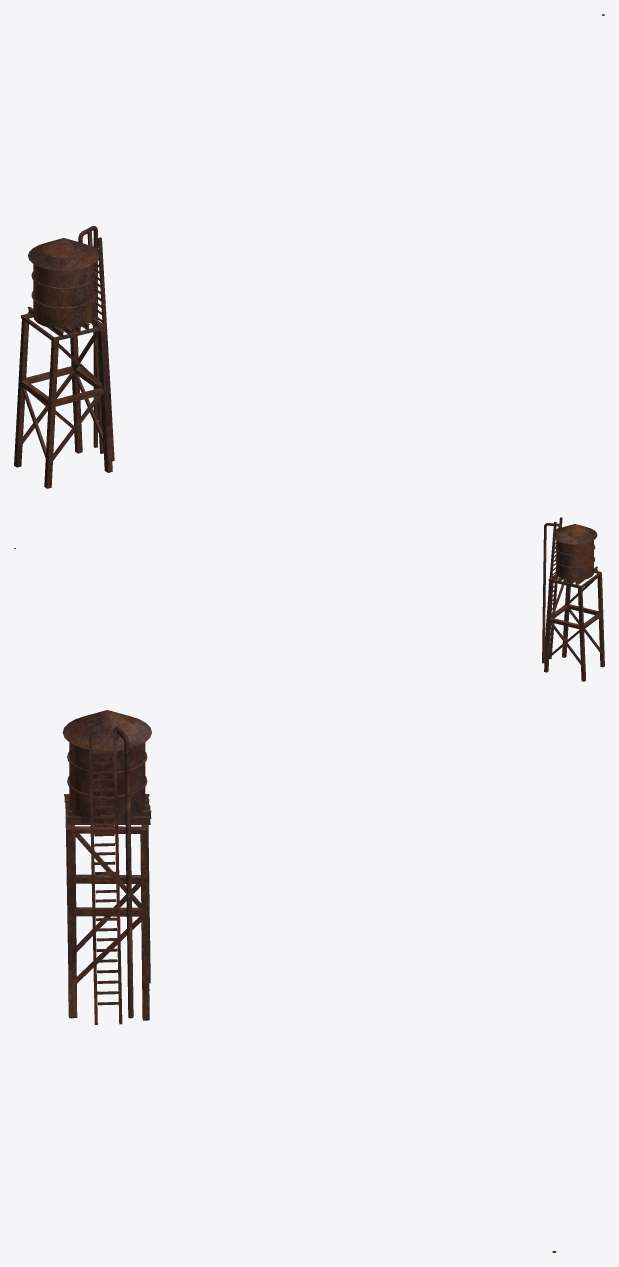
Rendered from rusted_water_tank.glb.
The picture shows the model from 3 angles, top to bottom: view 1: azimuth 30°, elevation 25°; view 2: azimuth 150°, elevation 25°; view 3: azimuth 270°, elevation 25°; orthographic projection. The views are drawn at different scales.
Visible parts, largest first — view 1: Cylinder001, Cone001, Box022, Box020, Box019, Box034, Box023; view 2: Cylinder001, Cone001, Line003, Box019, Box020, Box023, Box022; view 3: Cylinder001, Cone001, Line003, Box022, Box023, Box035, Box034.
Boxes of the visible parts, x1,y1,x2,y2 form: Cylinder001: (33, 264, 93, 329); Cone001: (28, 238, 99, 270); Box022: (97, 330, 112, 472); Box020: (44, 340, 58, 488); Box019: (14, 319, 28, 467); Box034: (97, 237, 114, 461); Box023: (70, 328, 82, 453); Cylinder001: (556, 540, 593, 580); Cone001: (553, 524, 597, 544); Line003: (542, 523, 561, 663); Box019: (578, 588, 585, 681); Box020: (597, 573, 604, 667); Box023: (544, 581, 553, 672); Box022: (562, 580, 570, 657); Cylinder001: (69, 742, 145, 823); Cone001: (62, 710, 151, 750); Line003: (114, 727, 133, 1018); Box022: (67, 833, 77, 1018); Box023: (140, 834, 149, 1020); Box035: (113, 729, 122, 1024); Box034: (88, 730, 97, 1024).
Size of the model in its own units: 800 by 237 by 364.
1 material, 1 textured.
